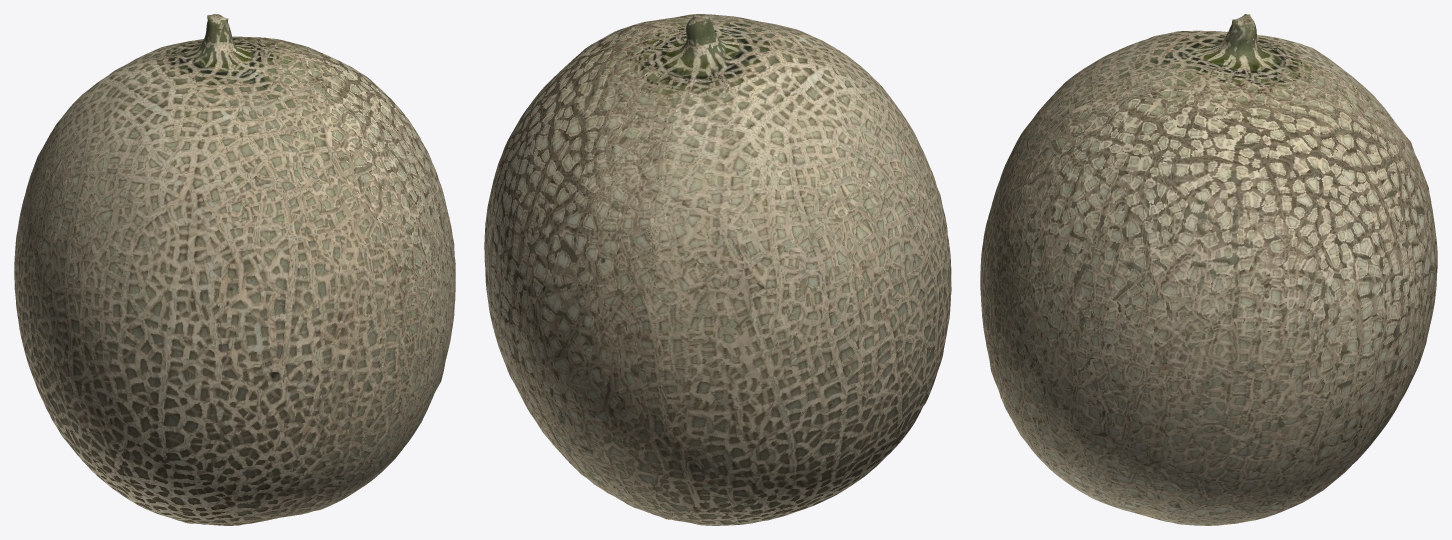
Rendered from melon.fbx.
The picture shows the model from 3 angles, left to right: view 1: azimuth 30°, elevation 25°; view 2: azimuth 150°, elevation 25°; view 3: azimuth 270°, elevation 25°; orthographic projection. The views are drawn at different scales.
Parts seen in each view (by area): view 1: melon; view 2: melon; view 3: melon.
Part boxes in pixels (x1,y1,x2,y2): melon: (14,14,455,525); melon: (484,14,951,525); melon: (980,14,1437,525).
Bounding box in the file's own units: 37.31 × 44.46 × 37.91.
1 material, 1 textured.
